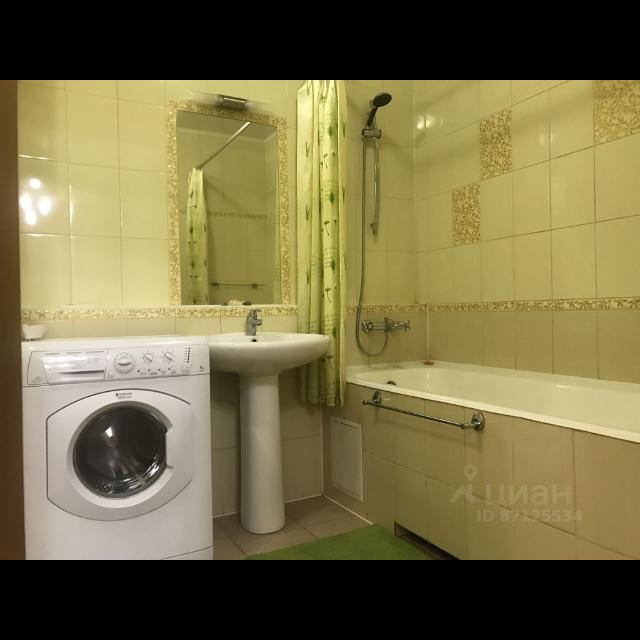Washing-Machine: (23, 334, 215, 558)
